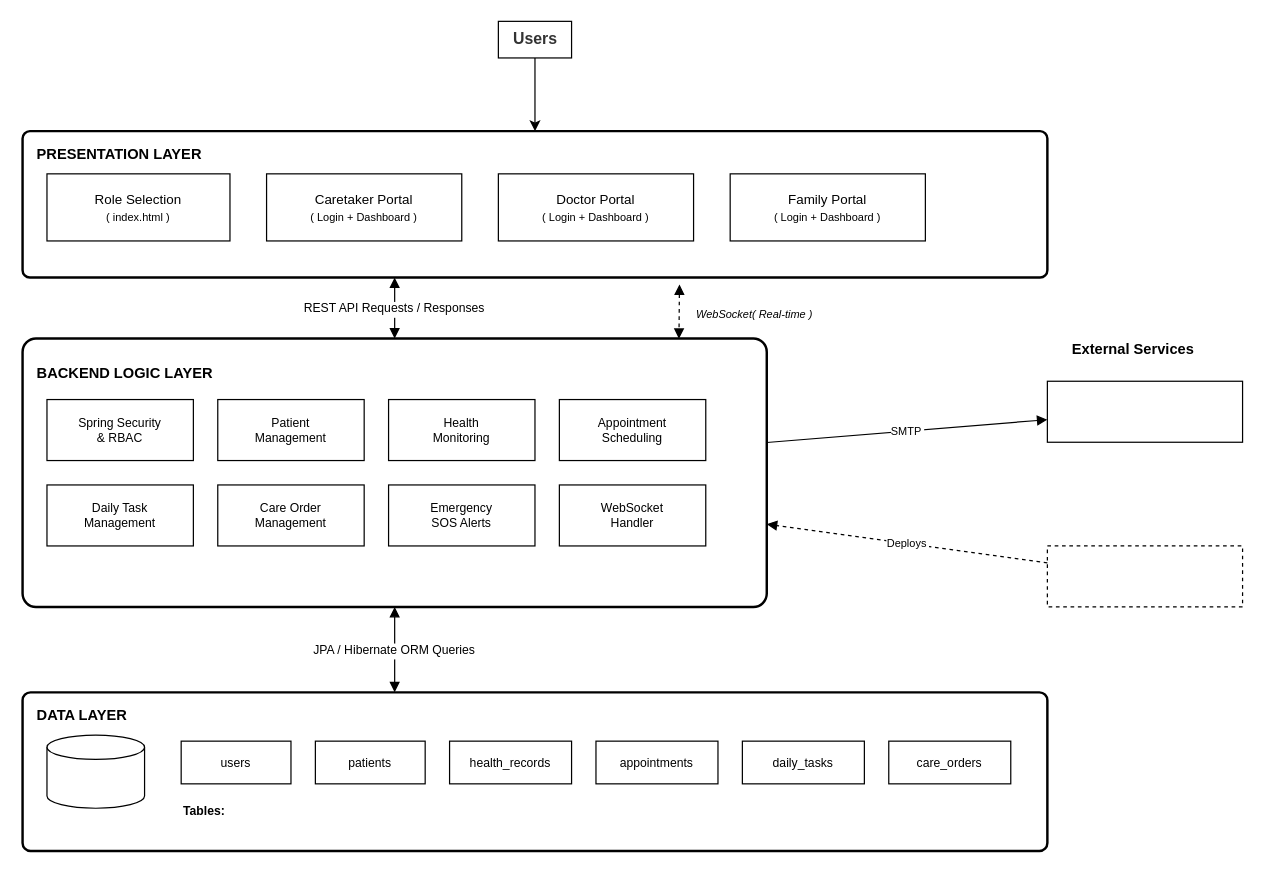
This 1264x874 diagram has some shape labels left out. Here are the shapes that lost their labels. From the top down, the centre of each, then its label:
At [1144,411]: "SMTP Email Server ( SOS Notifications )".
At [1144,576]: "Docker Container ( Dockerfile + docker-compose.yml )".
At [95,771]: "MySQL Database".
